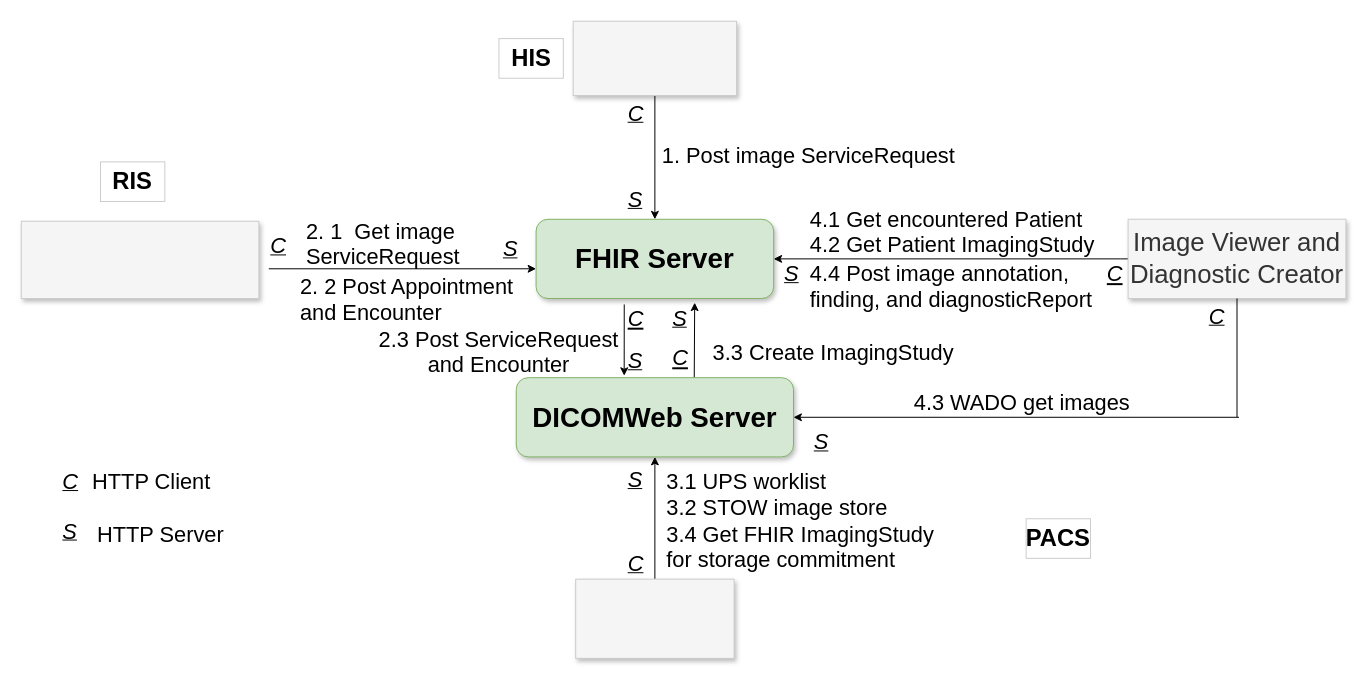
Some shapes in this 1369 by 683 pixel diagram are drawn without their labels. Here are the shapes that lost their labels. From the top down, the centre of each, then its label:
At point (655, 59): "Order Placer".
At point (140, 260): "Order Filler and Scheduling".
At point (655, 619): "Modality Imaging".
